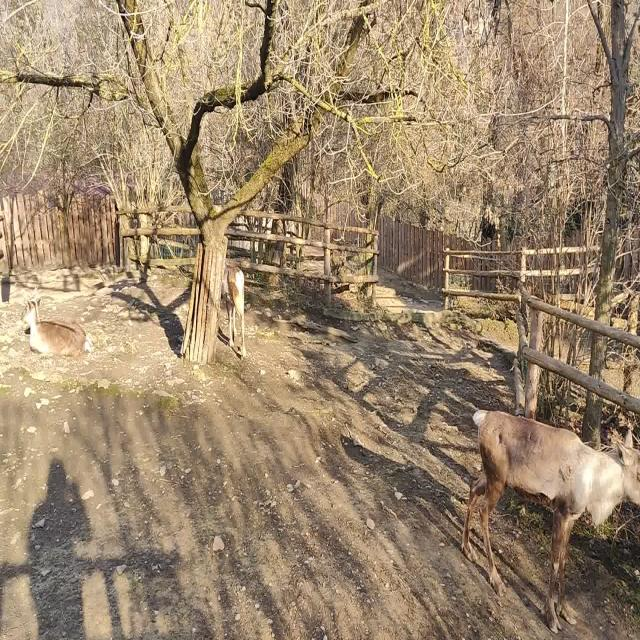deer: (461, 409, 640, 633), (21, 298, 92, 357), (222, 266, 246, 360)
